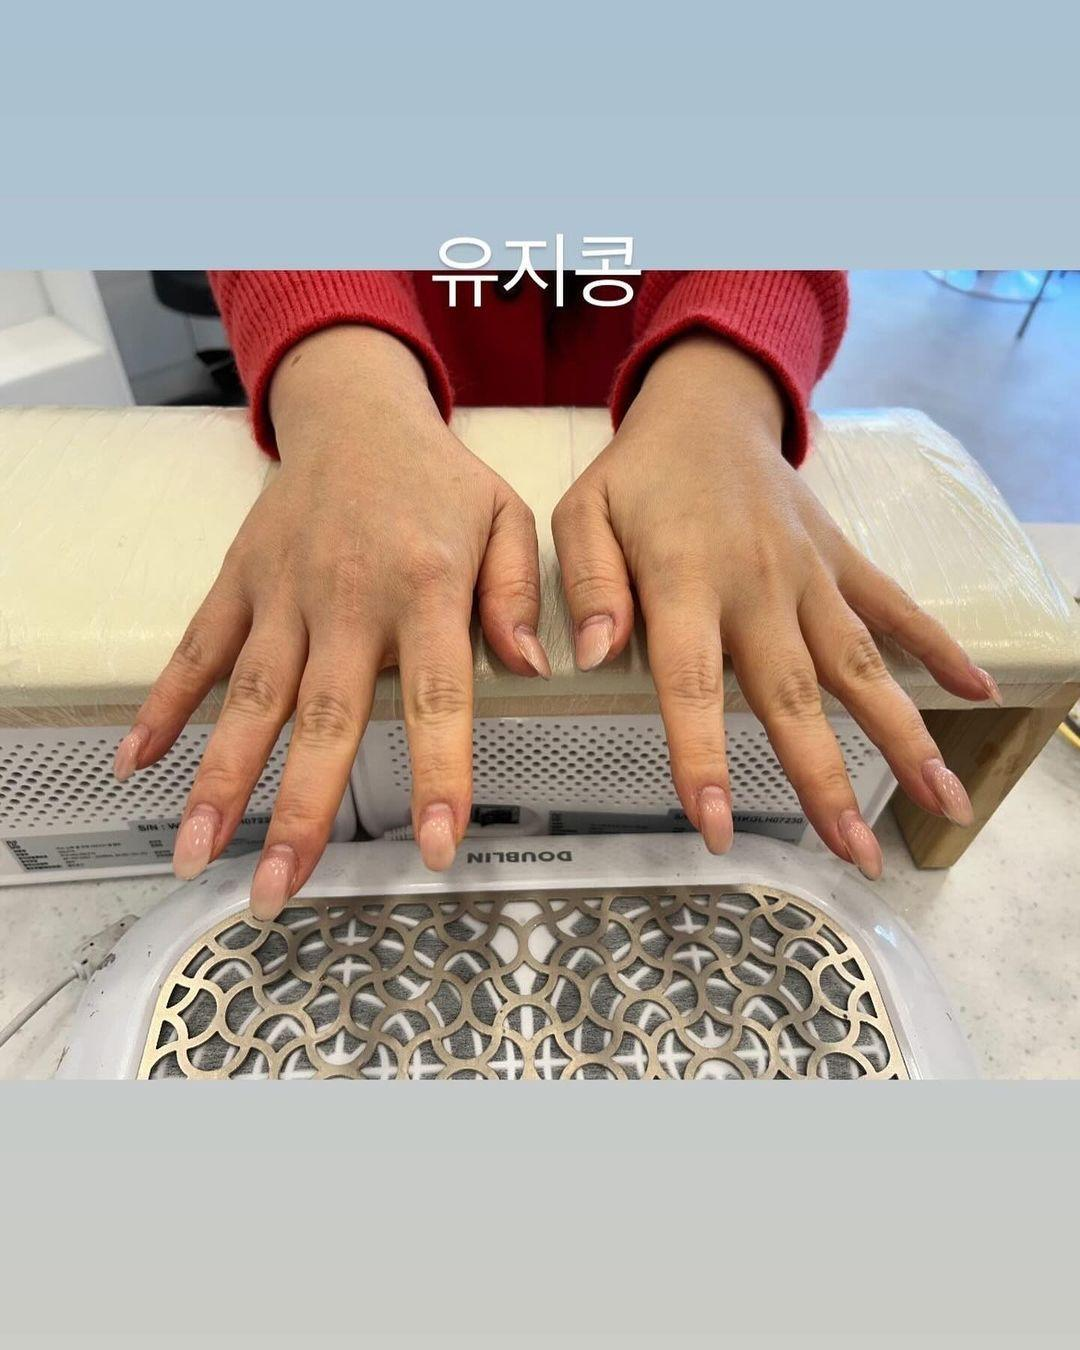nail: (171, 802, 220, 881), (920, 756, 974, 827), (249, 842, 296, 921), (836, 808, 883, 881), (415, 801, 456, 871), (696, 784, 734, 855), (573, 612, 614, 671), (512, 623, 551, 680), (112, 723, 148, 781), (969, 665, 1004, 708)
